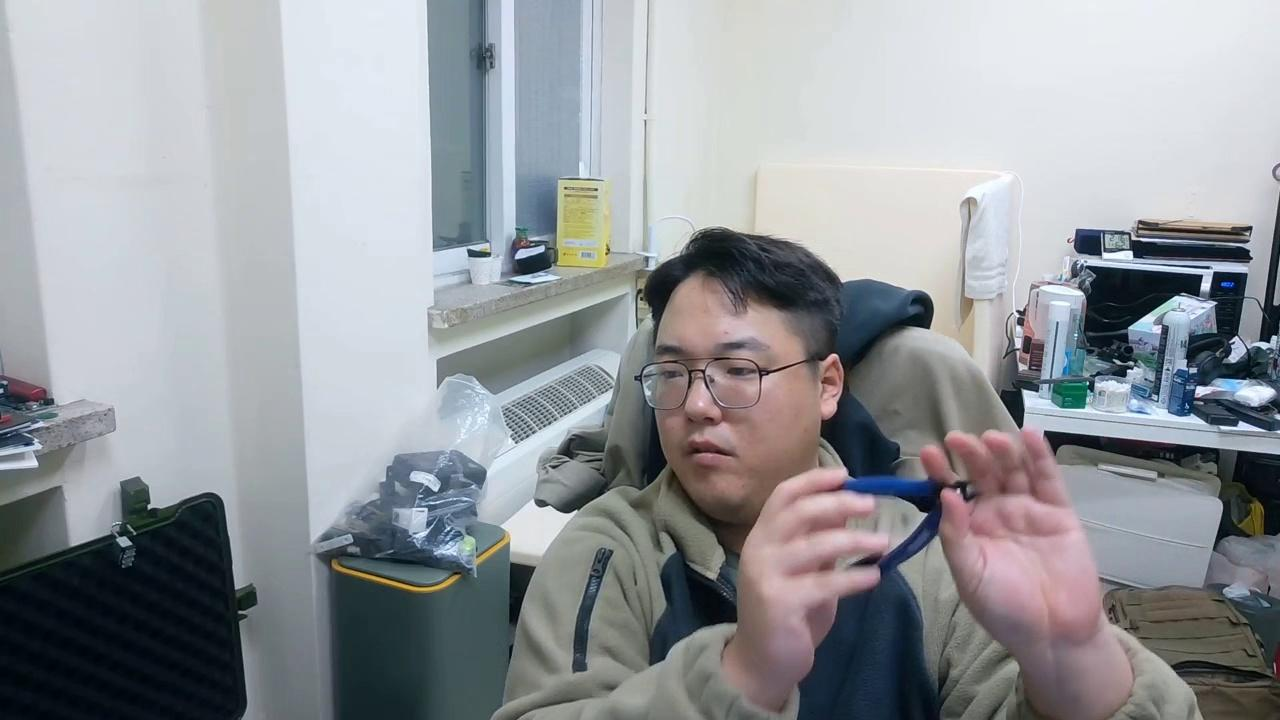blue_pliers: (838, 473, 979, 573)
